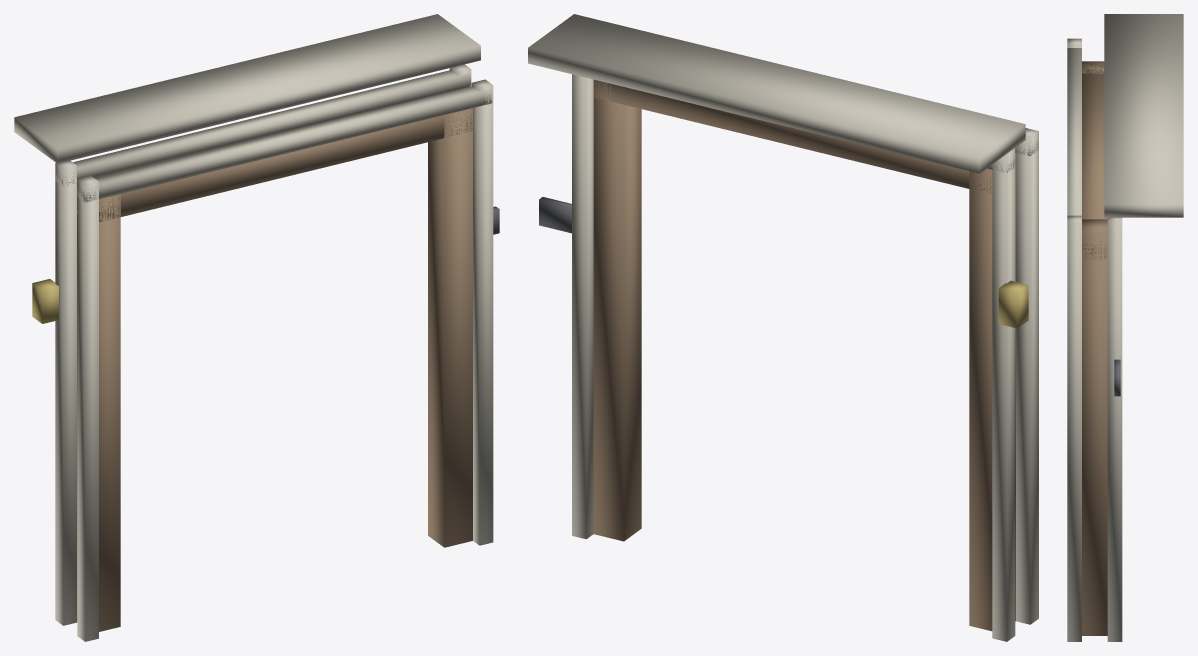
File: doorway_motel_w182_h220_d16.glb
The picture shows the model from 3 angles, left to right: view 1: azimuth 30°, elevation 25°; view 2: azimuth 150°, elevation 25°; view 3: azimuth 270°, elevation 25°; orthographic projection. The views are drawn at different scales.
Parts seen in each view (by area): view 1: world; view 2: world; view 3: world.
Part boxes in pixels (left/top/right/bottom): world: left=14, top=14, right=499, bottom=641; world: left=528, top=14, right=1038, bottom=641; world: left=1067, top=14, right=1183, bottom=641.
Size of the model in its own units: 2.57 by 2.58 by 0.6153.
